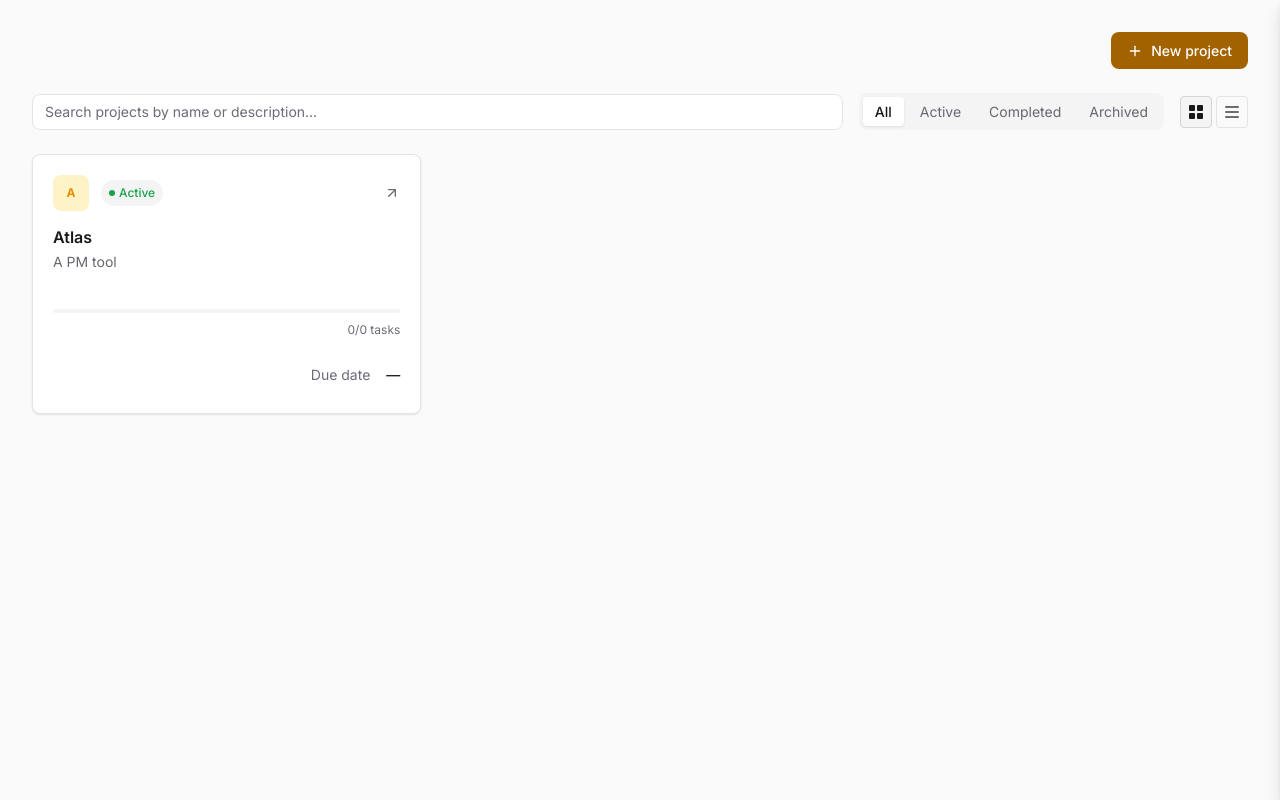
Test case: ProjectList loading/error/empty states › should show the no-results empty state when search/filter matches nothing
The width and height of the screenshot is (1280, 800).
Step 1. Type "nonexistent" into the search field with placeholder "Search projects by name or description..." → (437, 112), box [32,94,843,130]
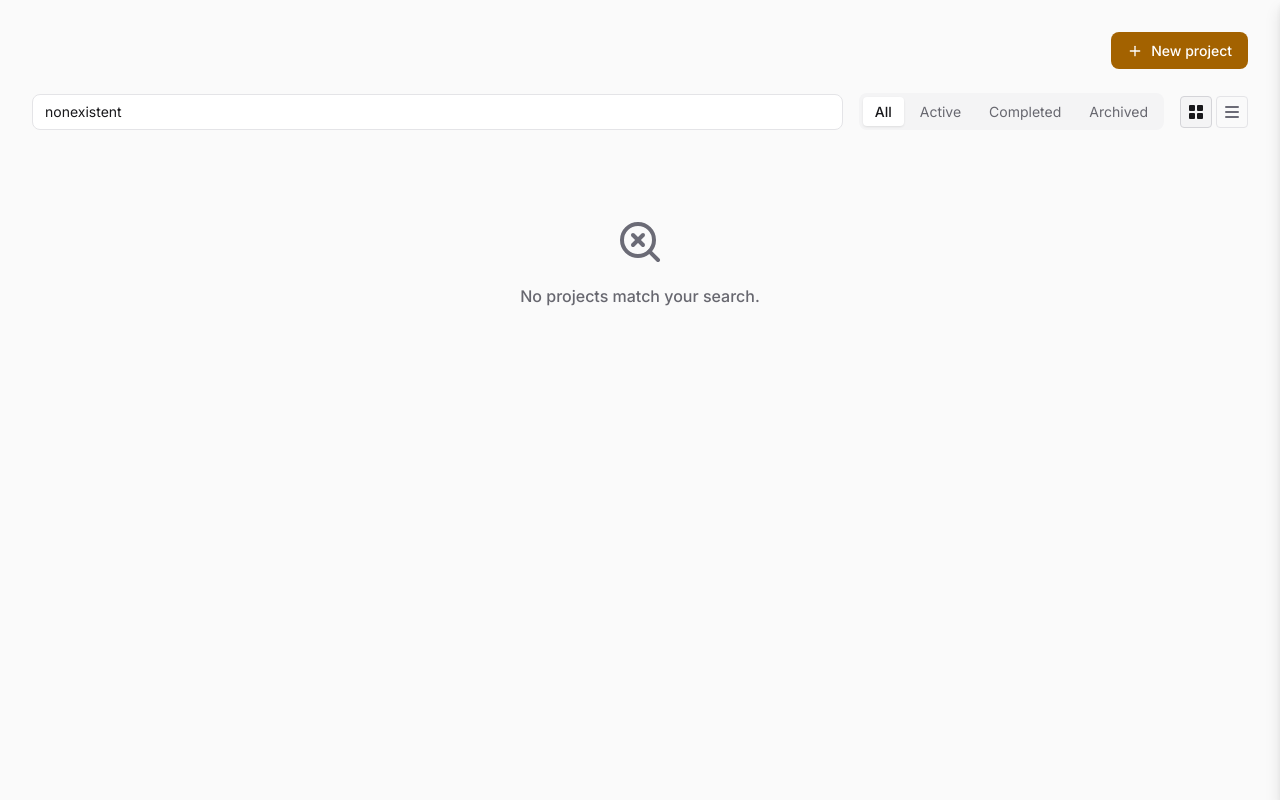
Result: the text "No projects match your search." is shown at [520,282,760,310]
